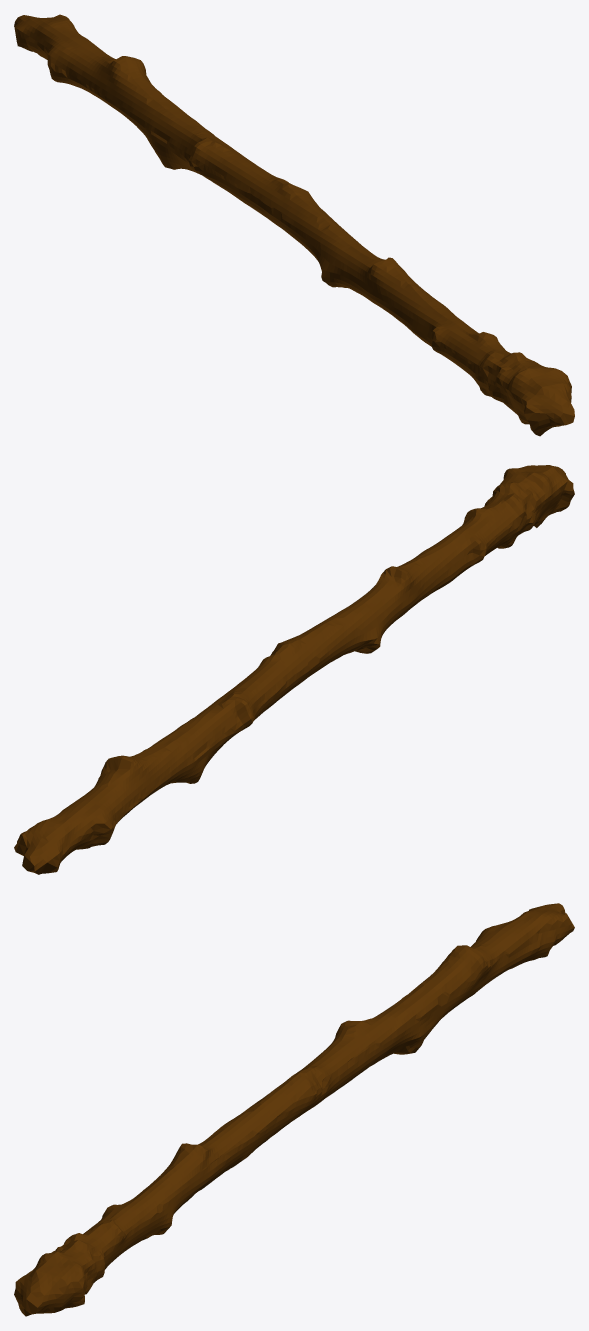
The model's file is Stick.glb.
The picture shows the model from 3 angles, top to bottom: view 1: azimuth 30°, elevation 25°; view 2: azimuth 150°, elevation 25°; view 3: azimuth 330°, elevation 25°; orthographic projection.
Parts seen in each view (by area): view 1: 3DSMeshMatrix; view 2: 3DSMeshMatrix; view 3: 3DSMeshMatrix.
Boxes of the visible parts, x1,y1,x2,y2 form: 3DSMeshMatrix: [14, 14, 574, 436]; 3DSMeshMatrix: [14, 465, 574, 874]; 3DSMeshMatrix: [14, 903, 574, 1316].
Bounding box in the file's own units: 16.58 × 16.56 × 245.
